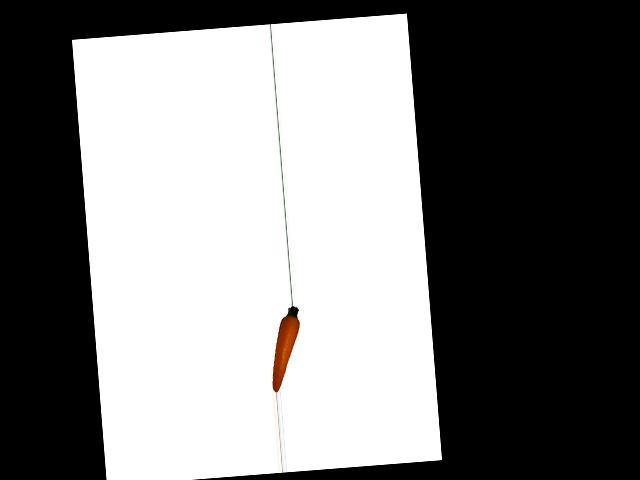carrot: (266, 305, 305, 391)
